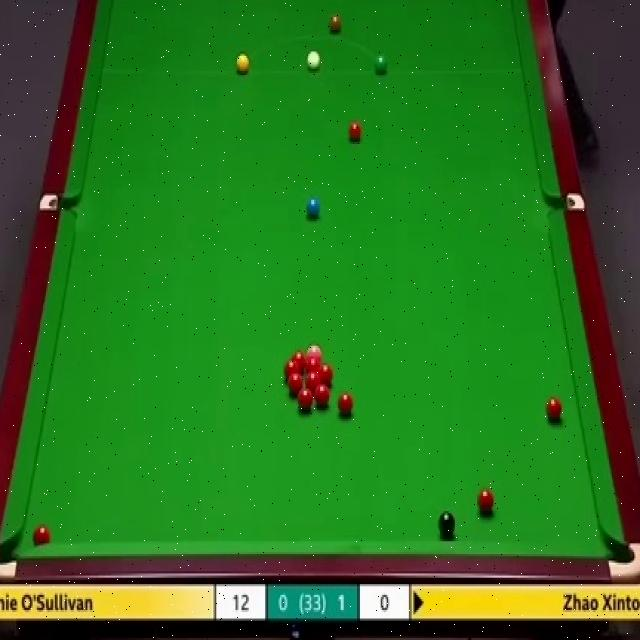black-ball: (438, 512, 456, 538)
blue-ball: (305, 196, 321, 220)
brown-ball: (328, 16, 342, 36)
green-ball: (373, 55, 390, 77)
pink-ball: (307, 345, 322, 356)
red-ball: (477, 488, 496, 516), (347, 119, 363, 144), (546, 398, 562, 422), (34, 523, 51, 545), (314, 385, 329, 409), (338, 394, 354, 416), (284, 360, 302, 378), (298, 389, 312, 412), (288, 374, 302, 396), (292, 353, 307, 372), (319, 365, 333, 385), (306, 372, 321, 388), (305, 355, 318, 373)
white-ball: (307, 49, 321, 72)
yellow-ball: (236, 54, 250, 74)
